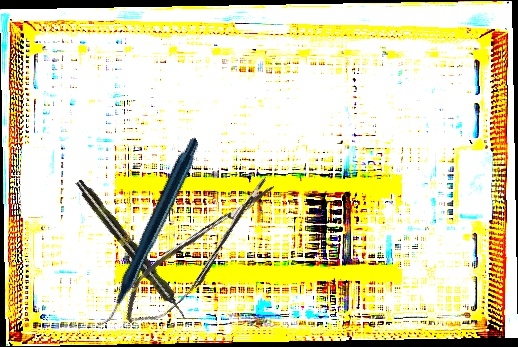Handpiece: (41, 137, 253, 326), (72, 176, 191, 323)
Micro Scissor: (110, 168, 290, 337)
